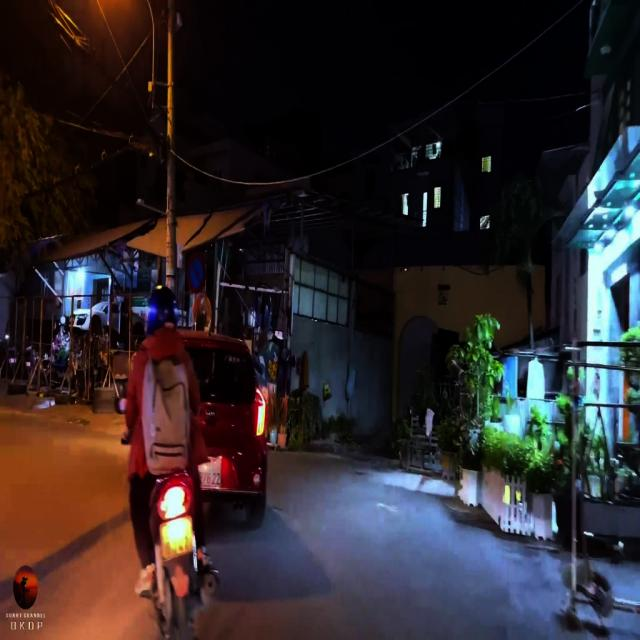cam_do_xe: (186, 252, 208, 295)
